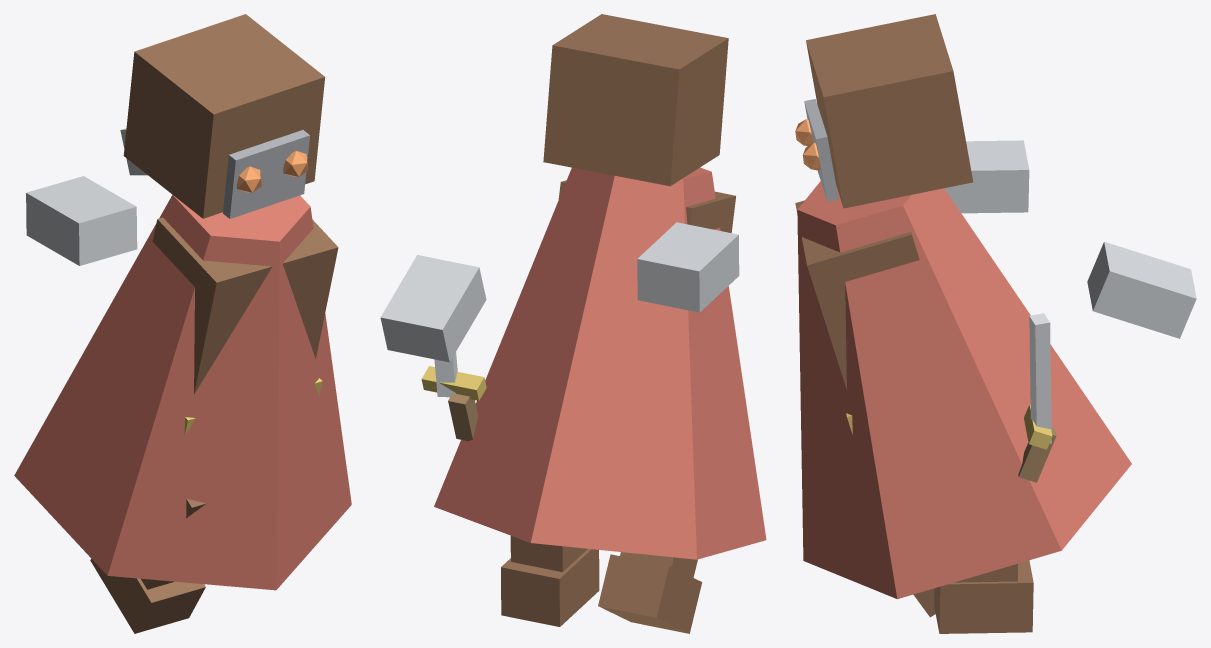
Rendered from npcpose_raider_idle_04.glb.
3 renders of one model, left to right at view 1: azimuth 30°, elevation 25°; view 2: azimuth 150°, elevation 25°; view 3: azimuth 270°, elevation 25°, orthographic.
Visible parts, largest first — view 1: npcpose; view 2: npcpose; view 3: npcpose.
Boxes of the visible parts, x1,y1,x2,y2 form: npcpose: (14, 14, 351, 633); npcpose: (380, 14, 766, 633); npcpose: (795, 14, 1196, 633).
Bounding box in the file's own units: 0.8155 × 1.64 × 1.03.
